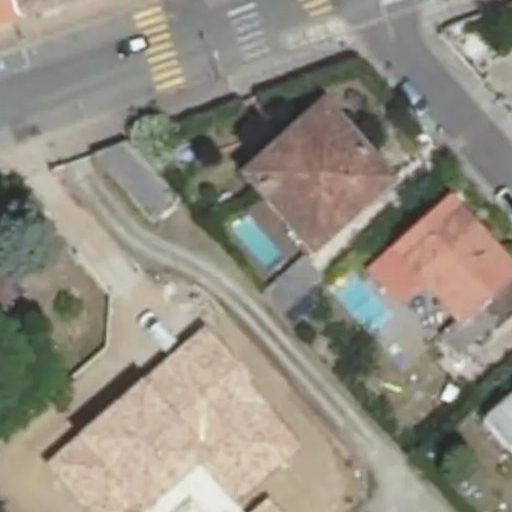pool: (228, 229, 283, 255)
